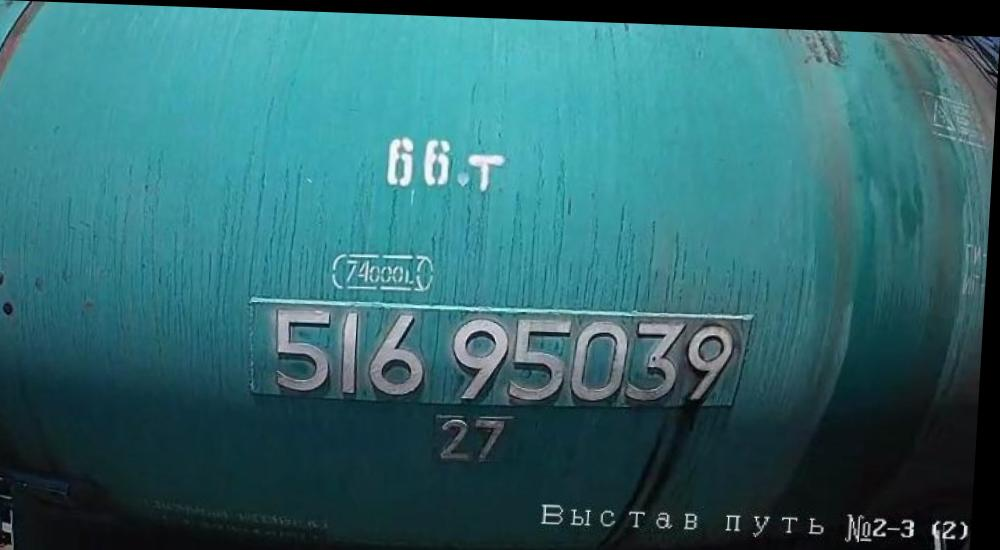Wagon-number: (269, 297, 741, 410)
